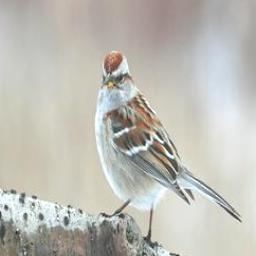Sparrow: (97, 48, 244, 248)
